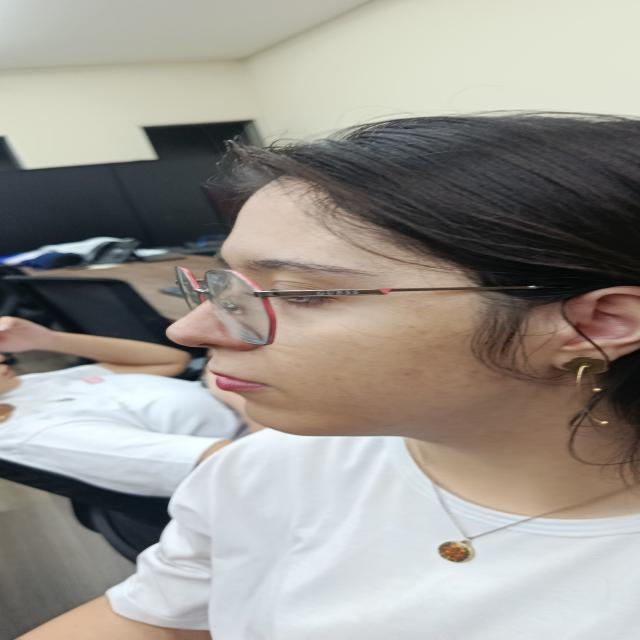sem_oculos: (176, 268, 527, 346)
